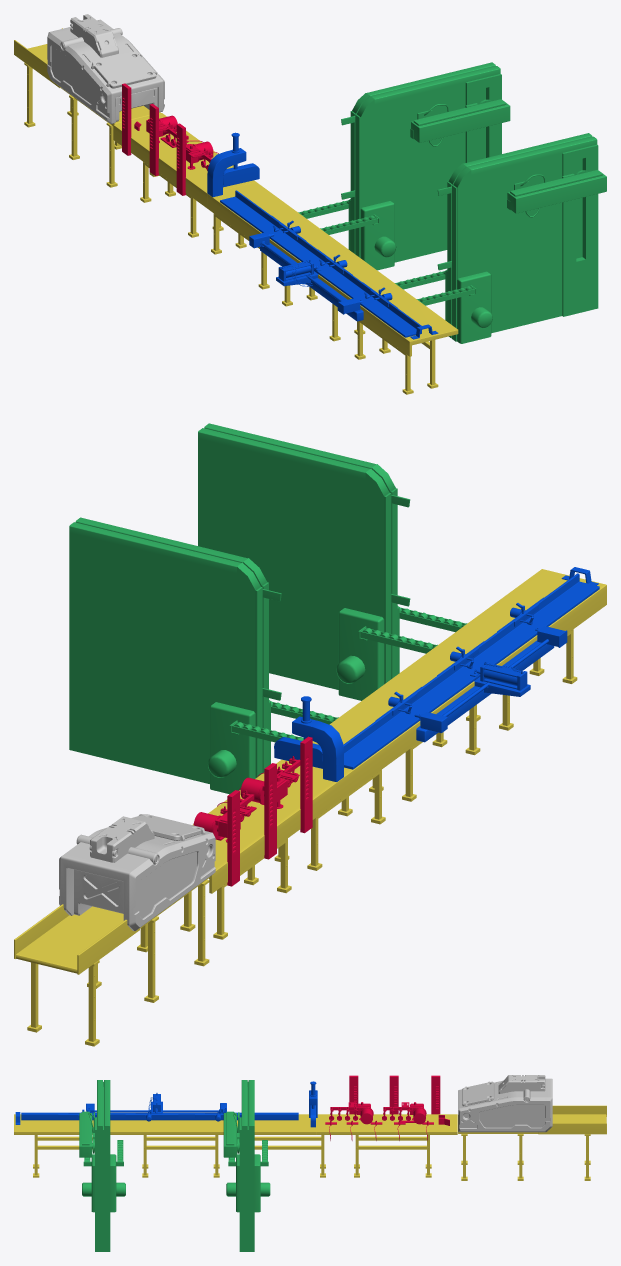
Rendered from ChiJie.fbx.
3 renders of one model, top to bottom at view 1: azimuth 30°, elevation 25°; view 2: azimuth 150°, elevation 25°; view 3: azimuth 270°, elevation 25°, orthographic. The views are drawn at different scales.
Visible parts, largest first — view 1: polySurface587 (×2), ChiJie, polySurface406, polySurface419, pCube167 (×2), polySurface658 (×2), polySurface480, polySurface588 (×2), polySurface502 (×2), polySurface659 (×2), polySurface510 (×2), polySurface508 (×2) (+12 smaller); view 2: polySurface509 (×2), ChiJie, polySurface406, polySurface419, pCube167 (×2), polySurface480, polySurface510 (×2), polySurface535, polySurface508 (×2), polySurface588 (×2), polySurface502 (×2), polySurface404 (+11 smaller); view 3: ChiJie, polySurface406, polySurface480, polySurface509 (×2), polySurface587 (×2), polySurface419, polySurface609, polySurface479, polySurface608, pCube167 (×2), polySurface658 (×2), polySurface534 (+10 smaller).
Part boxes in pixels (x1,y1,x2,y2): polySurface587 (×2): (357,74,598,333); ChiJie: (47,14,164,124); polySurface406: (208,182,458,356); polySurface419: (220,190,421,337); pCube167 (×2): (360,201,491,343); polySurface658 (×2): (411,103,606,213); polySurface480: (113,113,255,208); polySurface588 (×2): (371,66,597,174); polySurface502 (×2): (355,114,457,341); polySurface659 (×2): (413,99,602,196); polySurface510 (×2): (367,62,592,166); polySurface508 (×2): (350,111,452,338); polySurface509 (×2): (69,439,389,783); ChiJie: (59,814,215,931); polySurface406: (276,569,606,800); polySurface419: (343,573,599,769); pCube167 (×2): (210,608,384,794); polySurface480: (192,766,338,893); polySurface510 (×2): (69,428,369,573); polySurface535: (16,877,209,973); polySurface508 (×2): (255,492,391,777); polySurface588 (×2): (75,423,376,562); polySurface502 (×2): (262,488,397,772); polySurface404: (292,716,343,781); ChiJie: (458,1075,552,1132); polySurface406: (14,1114,316,1134); polySurface480: (316,1114,457,1134); polySurface509 (×2): (102,1080,254,1251); polySurface587 (×2): (95,1117,247,1251); polySurface419: (21,1112,298,1120); polySurface609: (142,1135,219,1177); polySurface479: (354,1135,431,1177); polySurface608: (254,1135,325,1177); pCube167 (×2): (110,1154,260,1212); polySurface658 (×2): (79,1113,236,1157); polySurface534: (538,1123,606,1134).
Bounding box in the file's own units: 396 × 230 × 981.
